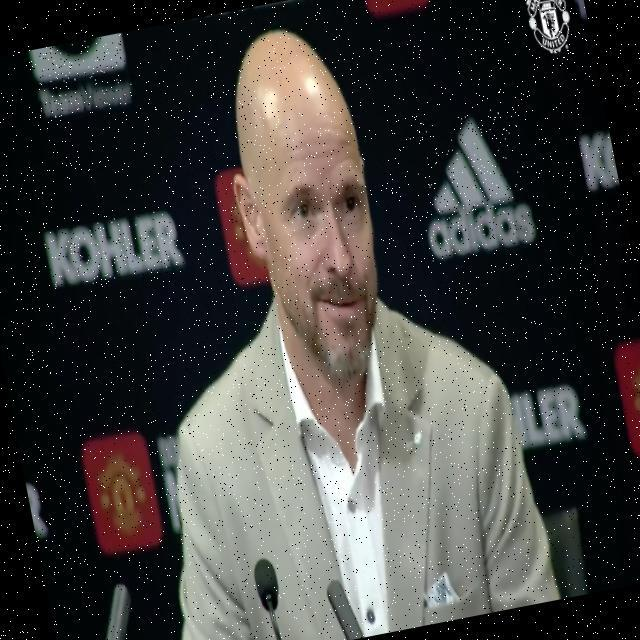Adidas: (406, 106, 540, 264)
Kohler: (43, 207, 186, 292)
TeamViewer: (29, 33, 135, 122)
